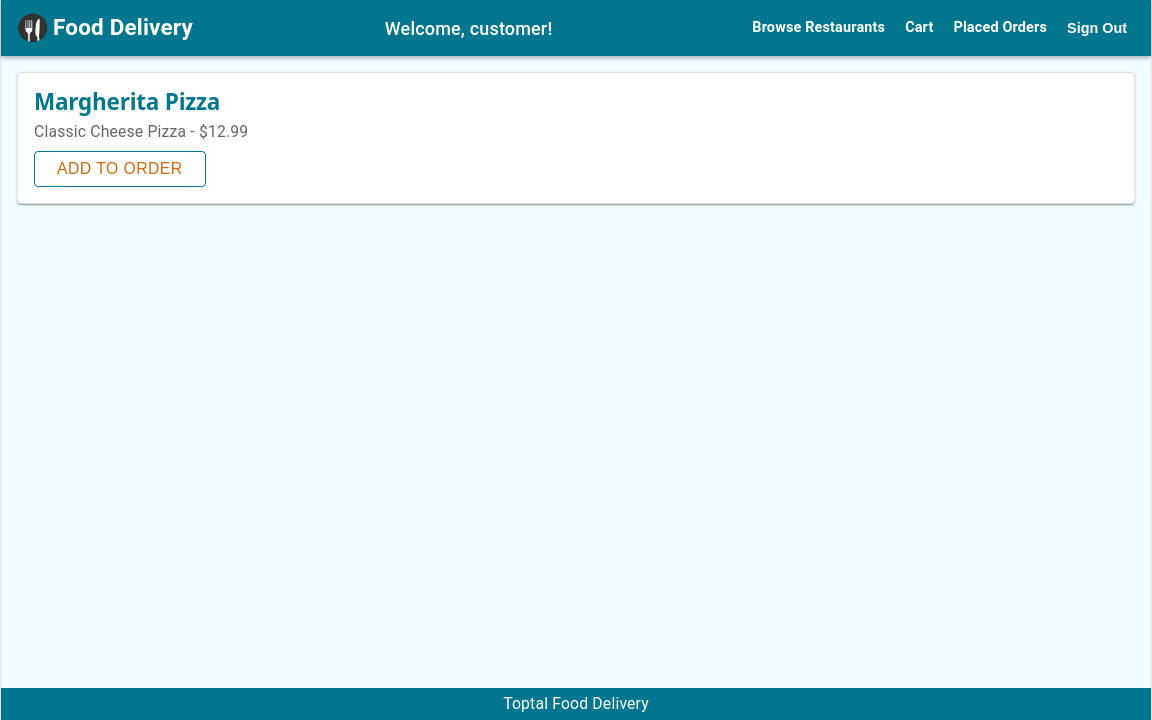
Test: menu to cart integration › adds meals from Menu and shows matching quantity in Cart after navigation
Click the button "Add to Order". click: click(120, 169)
box: [34,151,206,187]
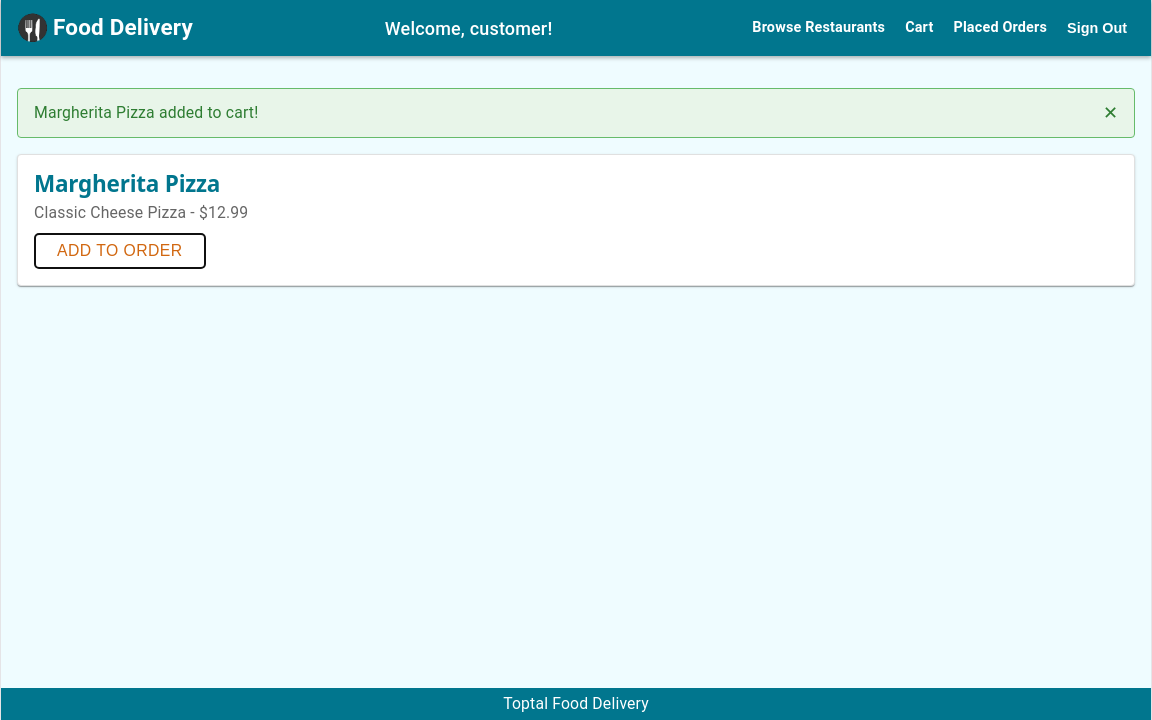
Click the button "Add to Order". click: click(120, 251)
box: [34,233,206,269]
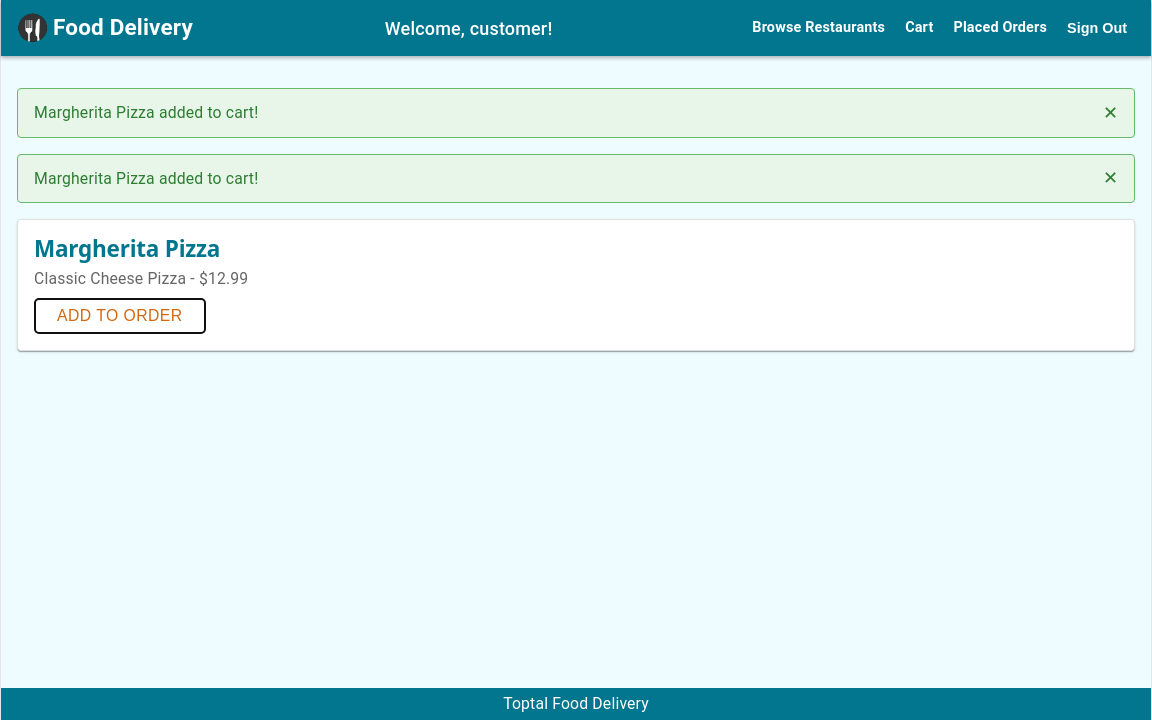
Click the link "Cart". click: click(919, 28)
box: [905,19,933,36]
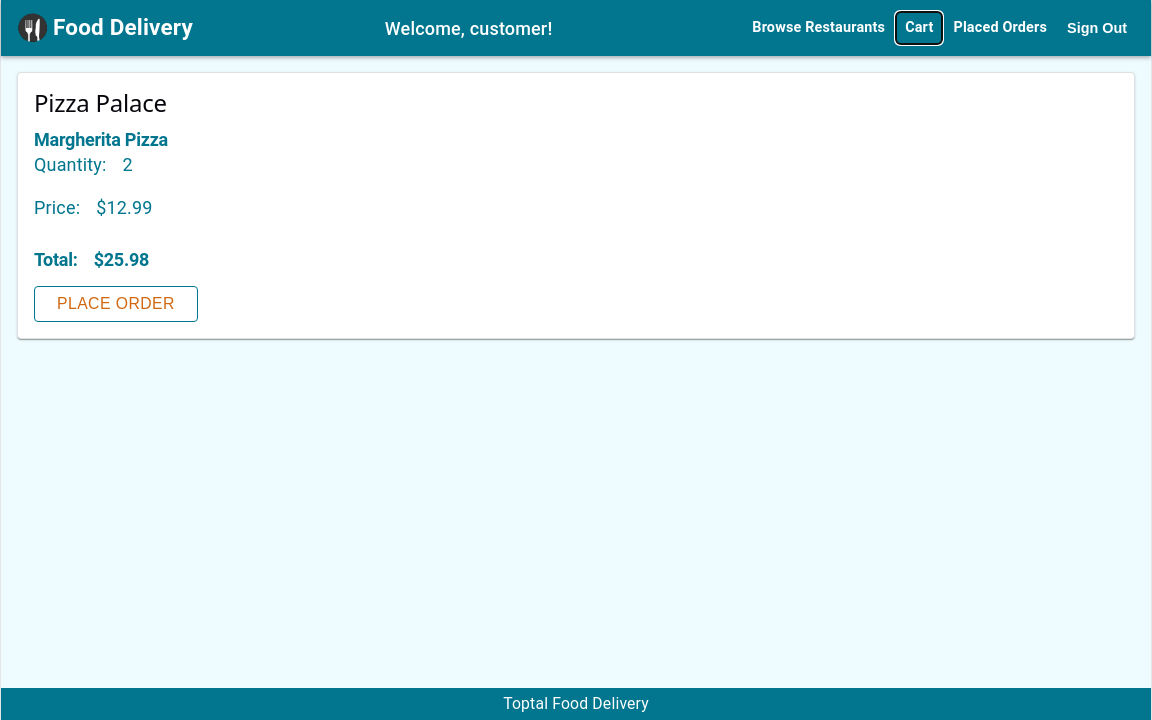
Check: the heading "Pizza Palace" is shown, box [34,86,167,119]
Check: the text "Quantity:" is shown, box [34,150,107,178]
Check: the text "2" is shown, box [123,150,133,178]
